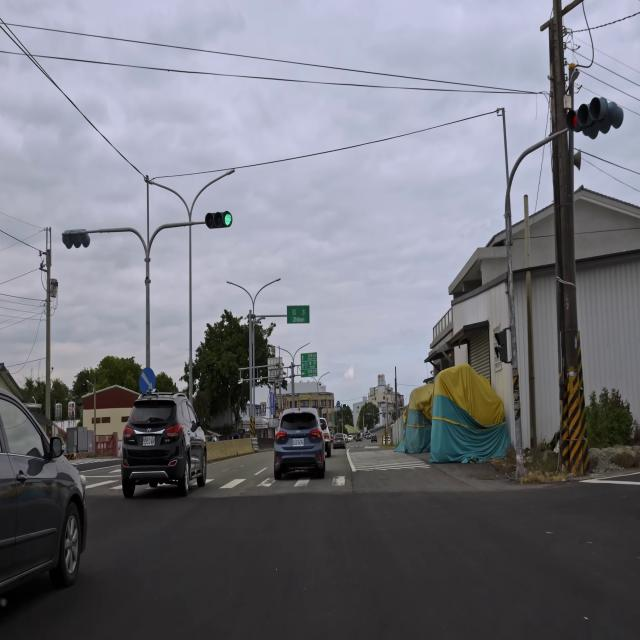green light: (204, 212, 233, 229)
